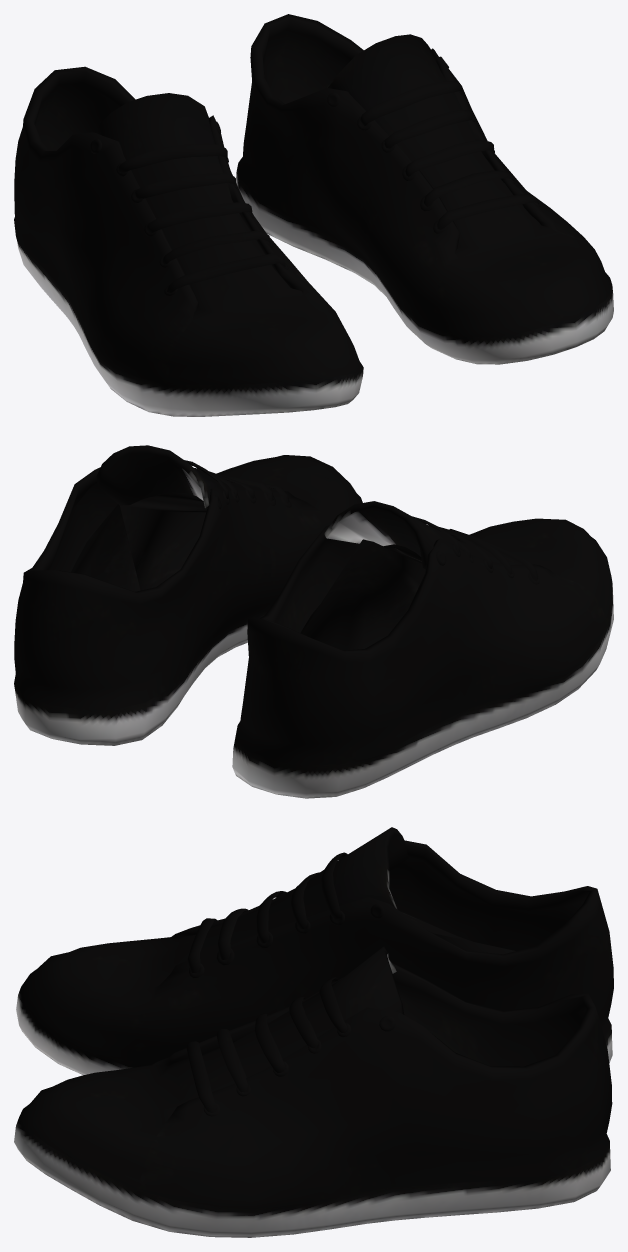
Rendered from Shoes 3.fbx.
3 views of the same model, one above another, from view 1: azimuth 30°, elevation 25°; view 2: azimuth 150°, elevation 25°; view 3: azimuth 270°, elevation 25° (orthographic). The views are drawn at different scales.
Visible parts, largest first — view 1: shoes 3; view 2: shoes 3; view 3: shoes 3.
Part boxes in pixels (x1,y1,x2,y2): shoes 3: (14,14,613,416); shoes 3: (14,445,613,798); shoes 3: (14,827,613,1237).
Bounding box in the file's own units: 25.9 × 11.81 × 27.56.
1 material, 1 textured.
